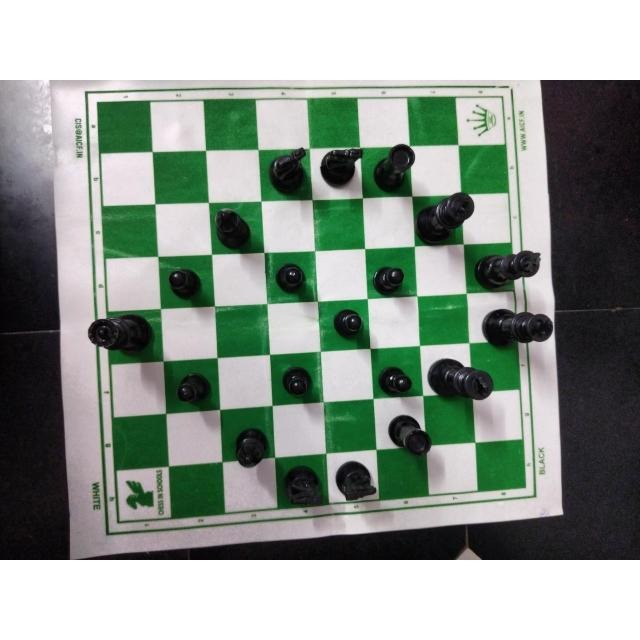black-bishop: (207, 205, 259, 252), (228, 422, 270, 472)
black-king: (479, 304, 552, 358), (426, 354, 497, 409), (411, 190, 477, 246), (470, 247, 544, 288)
black-knight: (331, 450, 379, 504), (263, 145, 310, 196), (281, 461, 325, 511), (316, 146, 363, 188)
black-pawn: (170, 369, 215, 407), (269, 257, 311, 297), (368, 258, 413, 295), (374, 360, 417, 398), (167, 264, 208, 301), (330, 304, 368, 342), (278, 366, 314, 402)
black-queen: (86, 313, 156, 356)
black-rook: (380, 407, 436, 459), (371, 143, 419, 195)
